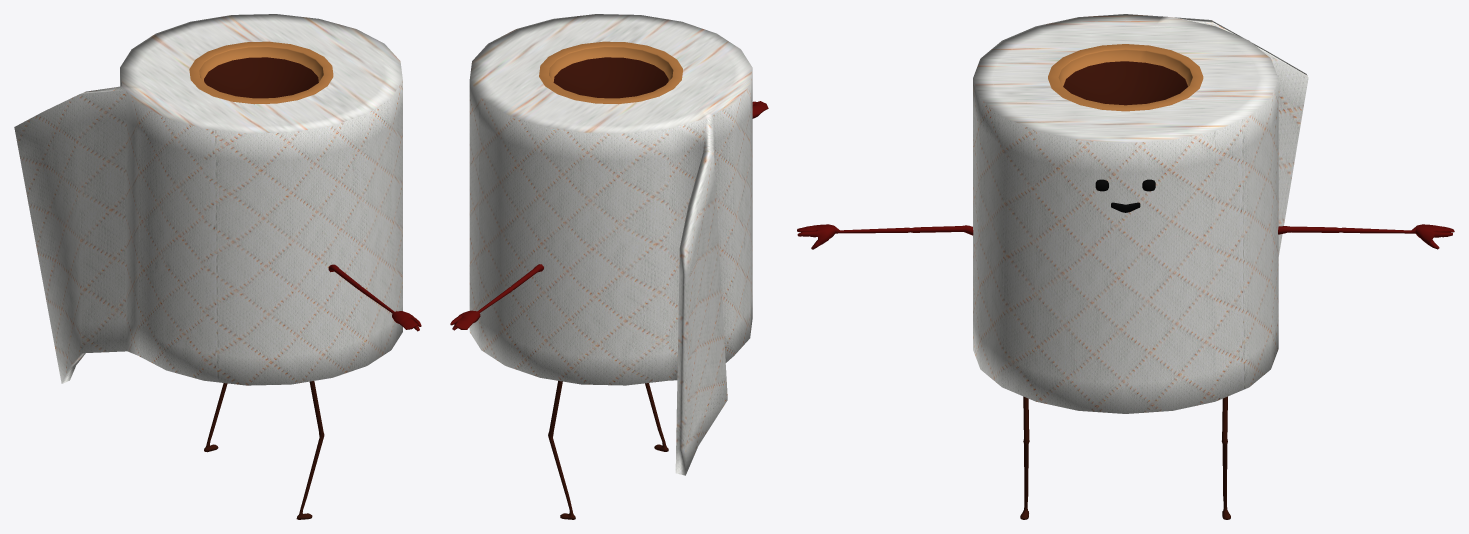
Rendered from cute.glb.
The picture shows the model from 3 angles, left to right: view 1: azimuth 30°, elevation 25°; view 2: azimuth 150°, elevation 25°; view 3: azimuth 270°, elevation 25°; orthographic projection. The views are drawn at different scales.
Parts seen in each view (by area): view 1: Body_10; view 2: Body_10; view 3: Body_10.
Boxes of the visible parts, <box> form: Body_10: <box>14,14,421,519</box>; Body_10: <box>450,14,768,519</box>; Body_10: <box>797,14,1454,519</box>.
Bounding box in the file's own units: 2.85 × 3.87 × 5.22.
1 material, 1 textured.
